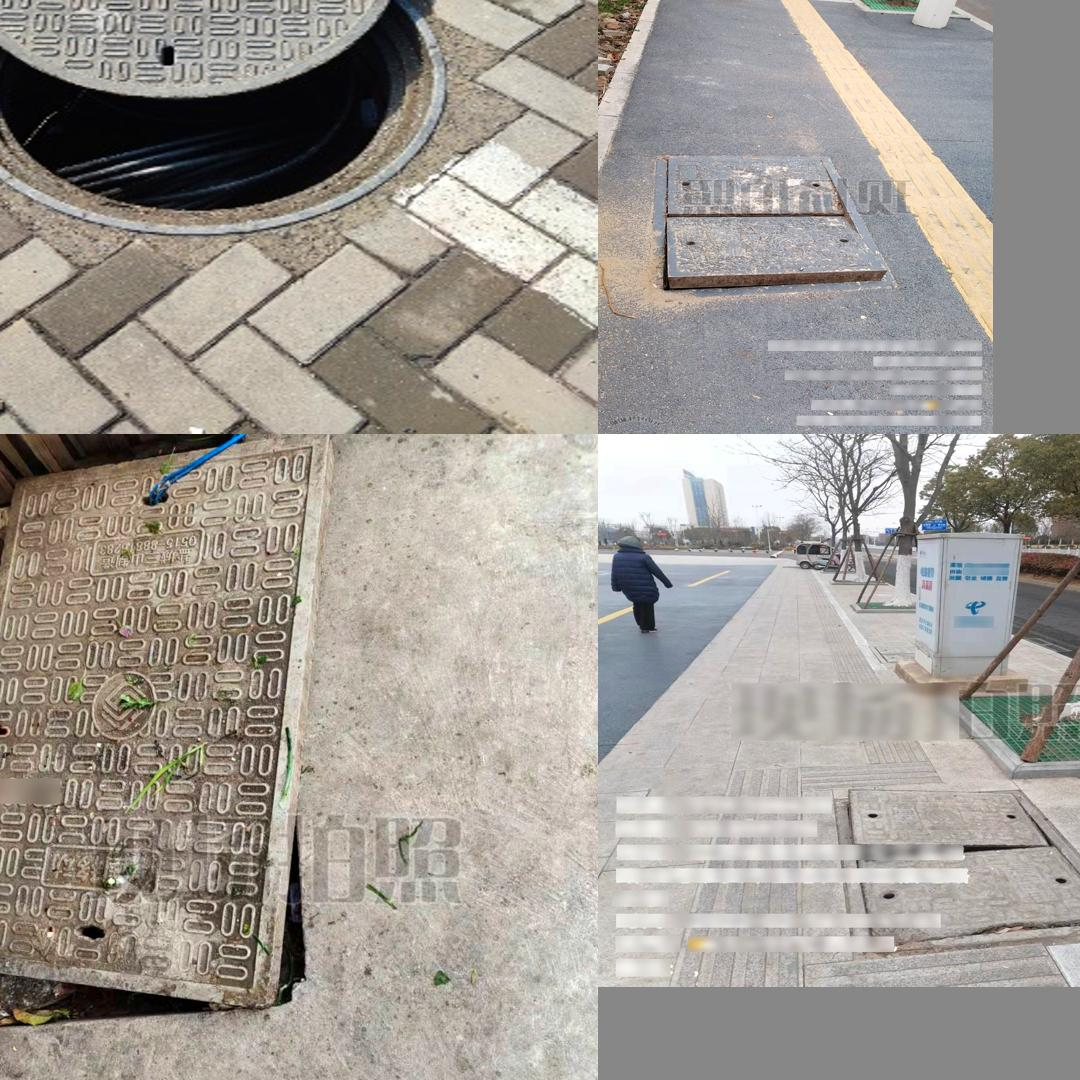uncovered: (0, 435, 335, 1026), (0, 0, 447, 232), (826, 786, 1080, 958), (645, 155, 900, 300)
